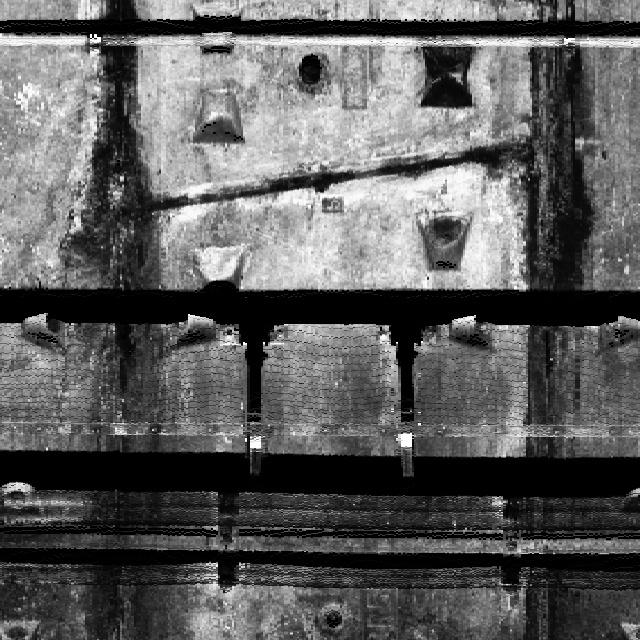leakage: (510, 2, 598, 639), (56, 0, 170, 452), (66, 495, 203, 636)
